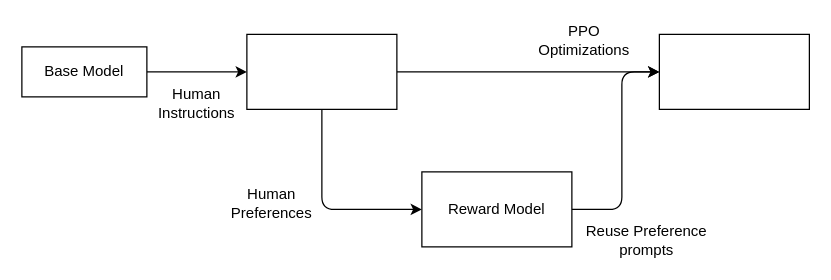
The diagram is 831 pixels wide and 280 high, and some of its shapes have lost their labels. The centre of each missing label's shape, as x and y in pixels:
"Aligned Model" goes at pixel 733 71.
"SFT Model" goes at pixel 321 71.
